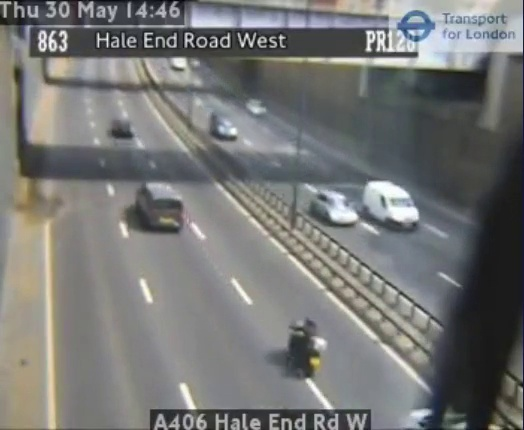motorcycle: (289, 318, 326, 377)
van: (137, 182, 183, 230)
